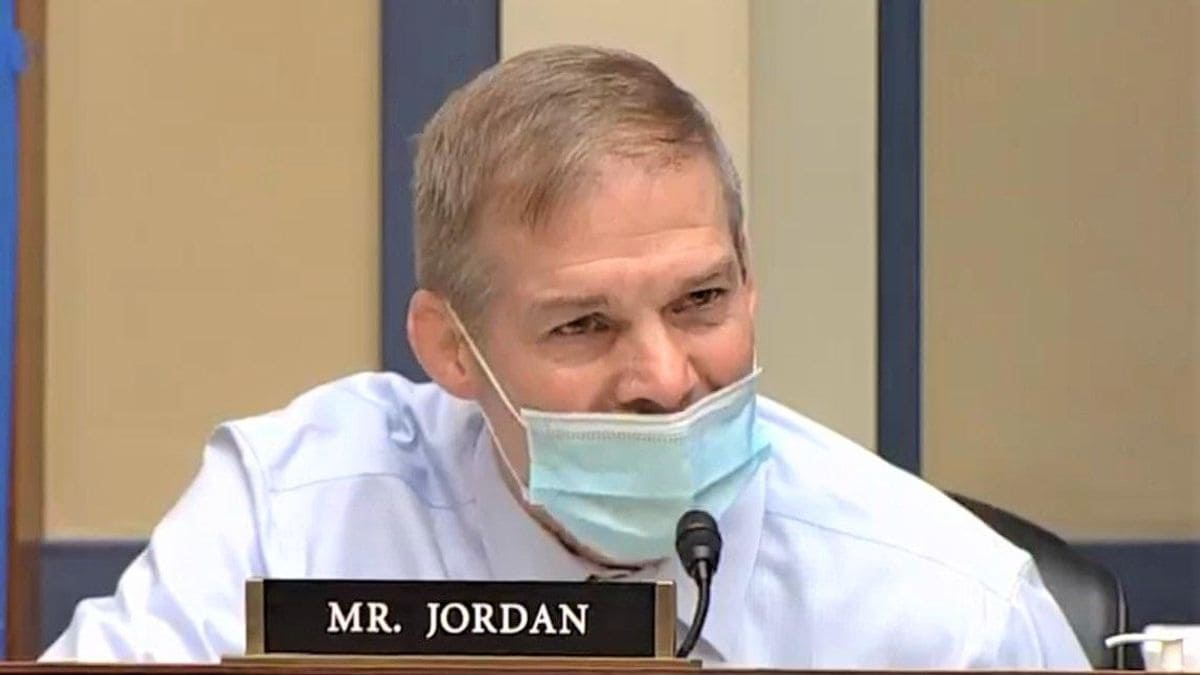with_incorrect_mask: (487, 163, 760, 563)
